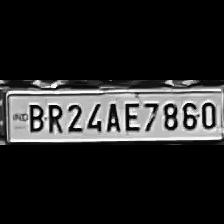0: (198, 98, 218, 130)
2: (63, 100, 83, 132)
4: (83, 100, 103, 132)
6: (178, 97, 198, 130)
7: (140, 98, 158, 132)
8: (158, 99, 178, 131)
A: (102, 100, 122, 132)
B: (23, 100, 44, 132)
E: (121, 98, 141, 132)
R: (44, 100, 64, 132)
